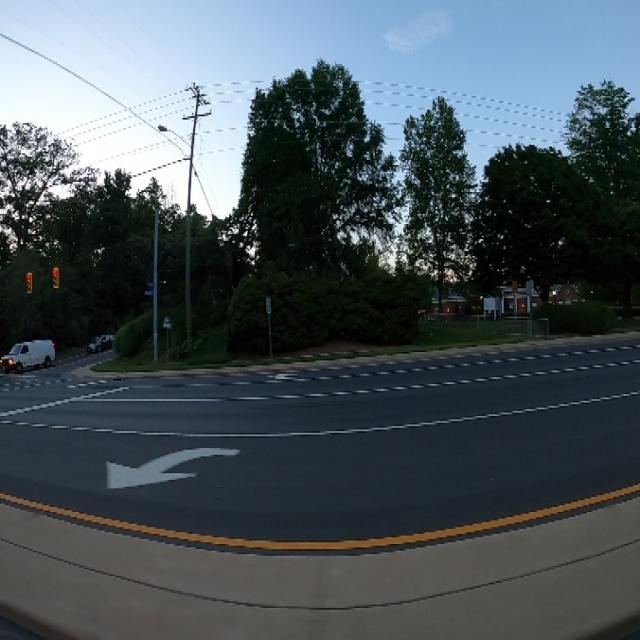Cars: (86, 333, 118, 358)
Jeep: (4, 337, 53, 363)
